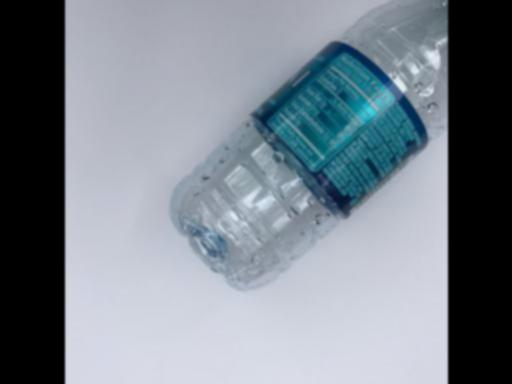PET: (166, 0, 447, 293)
plastic: (166, 0, 447, 293)
water: (166, 0, 447, 293)
